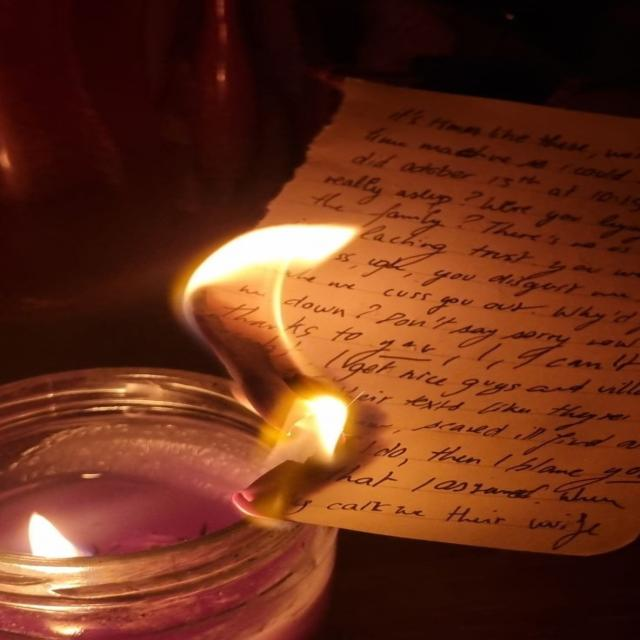fire: (177, 222, 367, 392), (235, 392, 353, 528)
